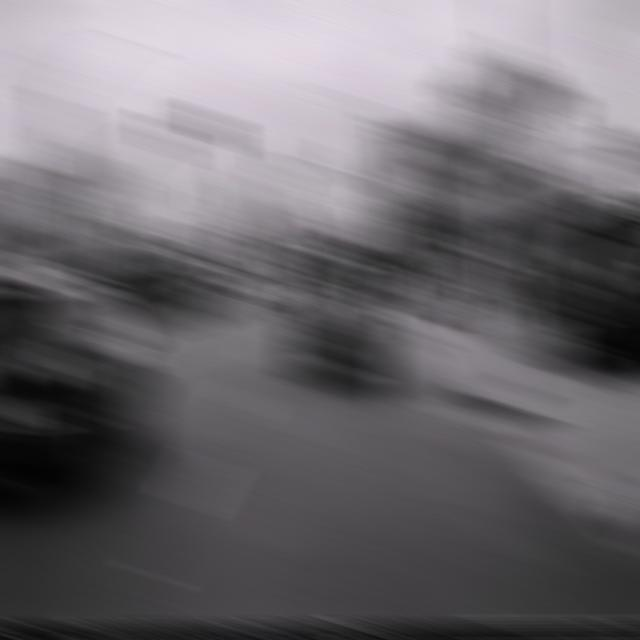speedLimit30: (477, 49, 532, 132)
